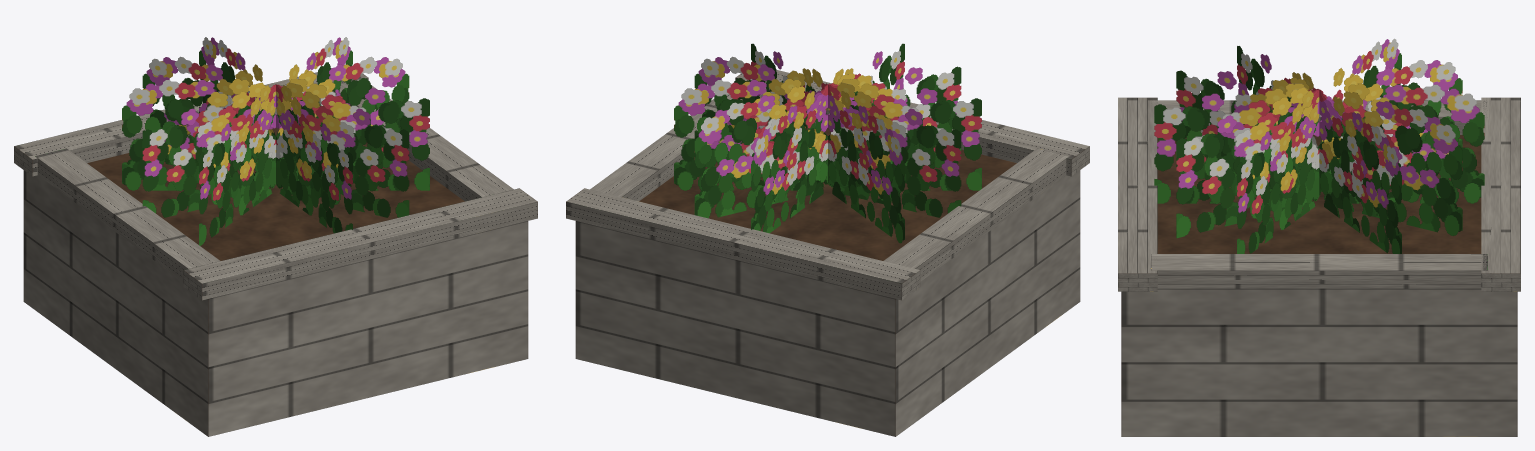
Rendered from planter@s160.glb.
3 renders of one model, left to right at view 1: azimuth 30°, elevation 25°; view 2: azimuth 150°, elevation 25°; view 3: azimuth 270°, elevation 25°, orthographic. The views are drawn at different scales.
Visible parts, largest first — view 1: town_planter, town_planter_flowers; view 2: town_planter, town_planter_flowers; view 3: town_planter, town_planter_flowers.
Boxes of the visible parts, x1,y1,x2,y2 form: town_planter: (14,72,537,436); town_planter_flowers: (122,37,429,245); town_planter: (566,69,1089,436); town_planter_flowers: (674,43,981,243); town_planter: (1118,97,1520,436); town_planter_flowers: (1154,38,1484,253).
Bounding box in the file's own units: 2.02 × 1.44 × 1.95.
Materials: 2 (2 with a texture image).
